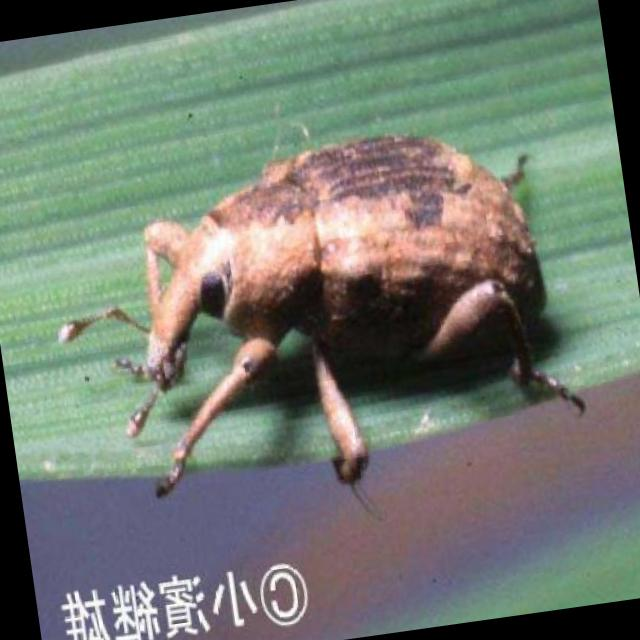rice-bug: (140, 132, 588, 491)
